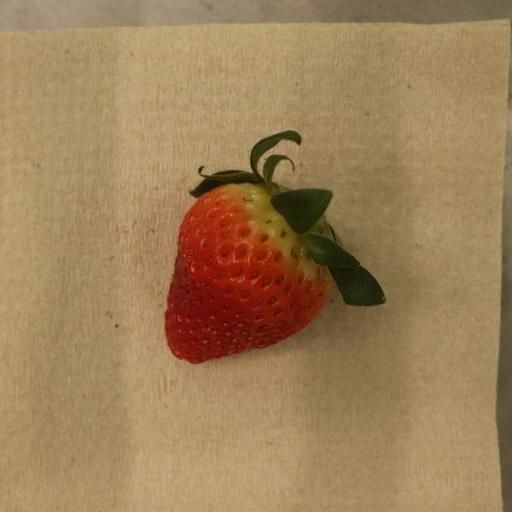Strawberry: (165, 131, 386, 365)
